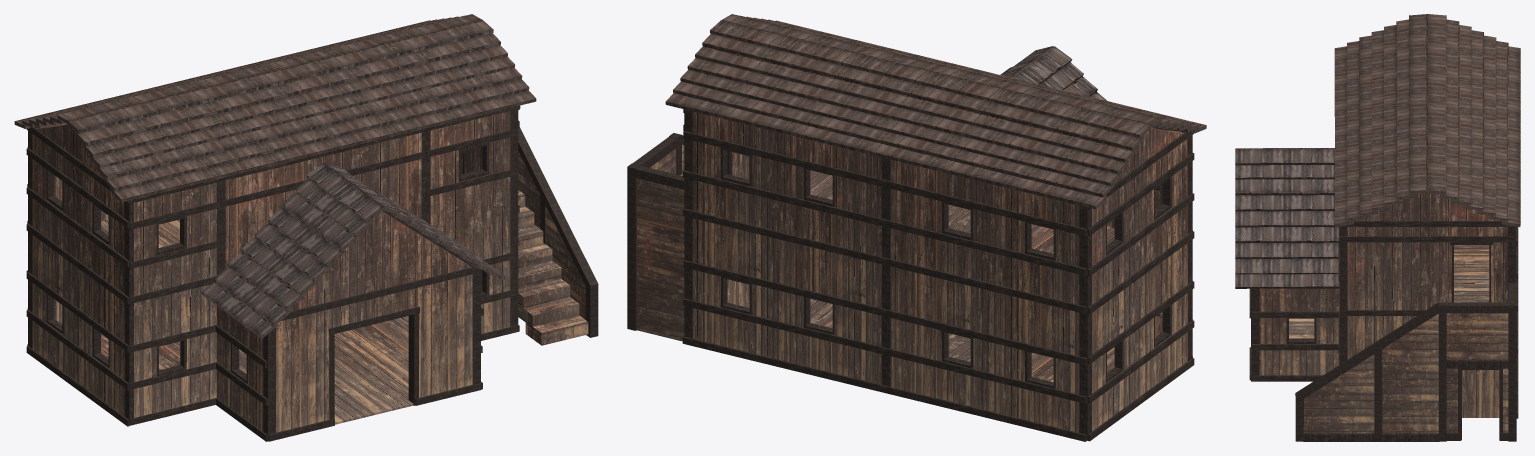
Rendered from WoodHouse.obj.
3 views of the same model, side by side, from view 1: azimuth 30°, elevation 25°; view 2: azimuth 150°, elevation 25°; view 3: azimuth 270°, elevation 25° (orthographic). The views are drawn at different scales.
Visible parts, largest first — view 1: HOUSE2; view 2: HOUSE2; view 3: HOUSE2.
Boxes of the visible parts, <box> form: HOUSE2: <box>14,14,598,441</box>; HOUSE2: <box>627,14,1206,441</box>; HOUSE2: <box>1235,14,1520,441</box>.
Size of the model in its own units: 454 by 259 by 285.
